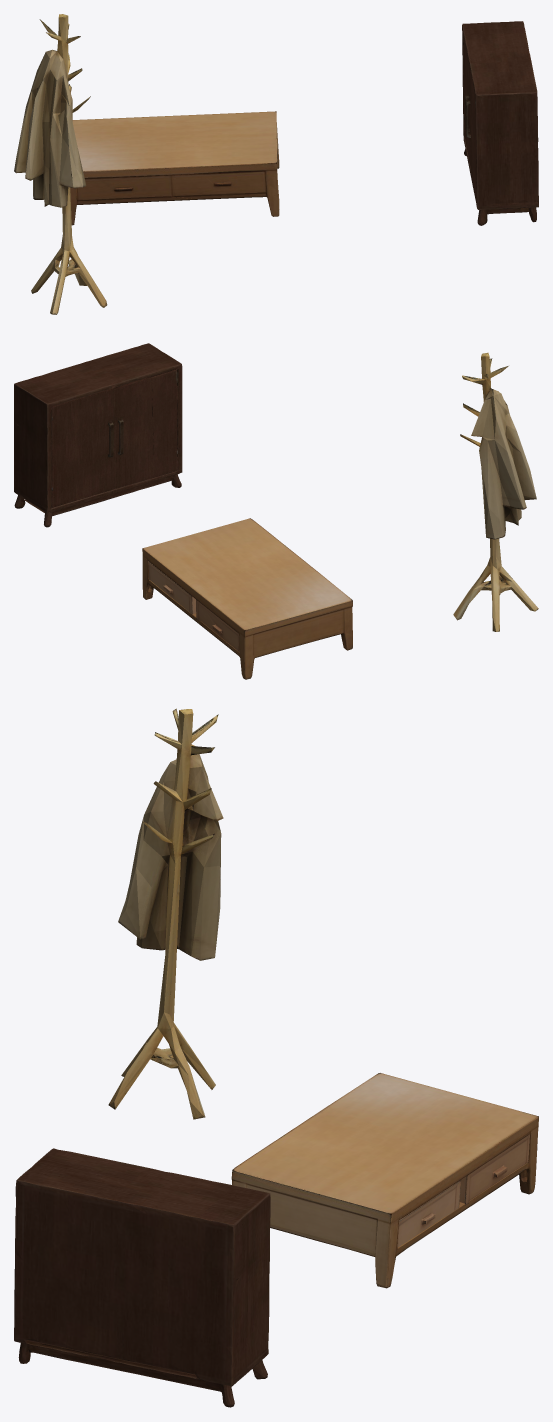
File: figure6-9.glb
The picture shows the model from 3 angles, top to bottom: view 1: azimuth 30°, elevation 25°; view 2: azimuth 150°, elevation 25°; view 3: azimuth 270°, elevation 25°; orthographic projection. The views are drawn at different scales.
Parts seen in each view (by area): view 1: obj_0_part_0, obj_1_part_0, obj_2_part_0, obj_1_part_2, obj_1_part_1; view 2: obj_0_part_0, obj_1_part_0, obj_2_part_0, obj_1_part_2, obj_1_part_1, obj_0_part_2, obj_0_part_1; view 3: obj_1_part_0, obj_0_part_0, obj_2_part_0, obj_0_part_1, obj_0_part_2.
Boxes of the visible parts, box(x1,y1,x2,y2) form: obj_0_part_0: box(70, 111, 279, 225); obj_1_part_0: box(462, 21, 538, 225); obj_2_part_0: box(14, 14, 107, 314); obj_1_part_2: box(465, 62, 477, 206); obj_1_part_1: box(462, 29, 470, 172); obj_0_part_0: box(142, 518, 352, 679); obj_1_part_0: box(14, 343, 182, 527); obj_2_part_0: box(453, 352, 538, 631); obj_1_part_2: box(112, 369, 179, 492); obj_1_part_1: box(50, 388, 113, 512); obj_0_part_2: box(148, 561, 196, 614); obj_0_part_1: box(196, 599, 239, 652); obj_1_part_0: box(14, 1148, 270, 1407); obj_0_part_0: box(231, 1073, 538, 1288); obj_2_part_0: box(108, 708, 223, 1119); obj_0_part_1: box(459, 1134, 529, 1205); obj_0_part_2: box(397, 1180, 461, 1247).
Size of the model in its own units: 1.63 by 0.8367 by 1.01.
7 materials, 7 textured.
